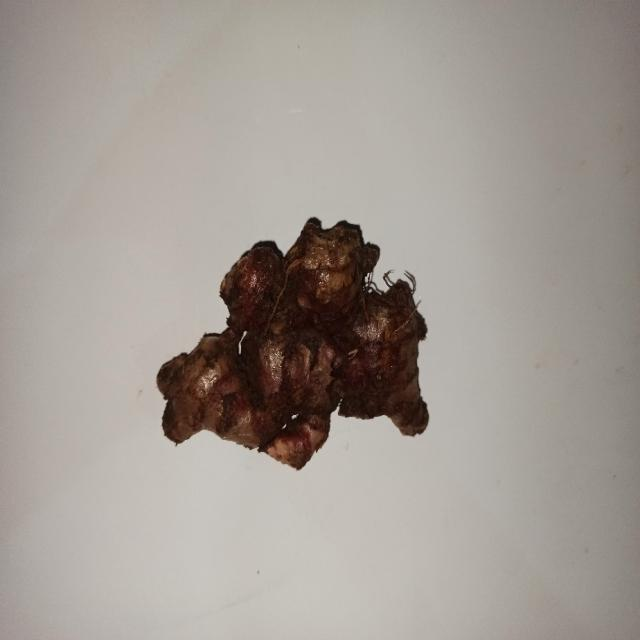ginger: (154, 214, 430, 468)
